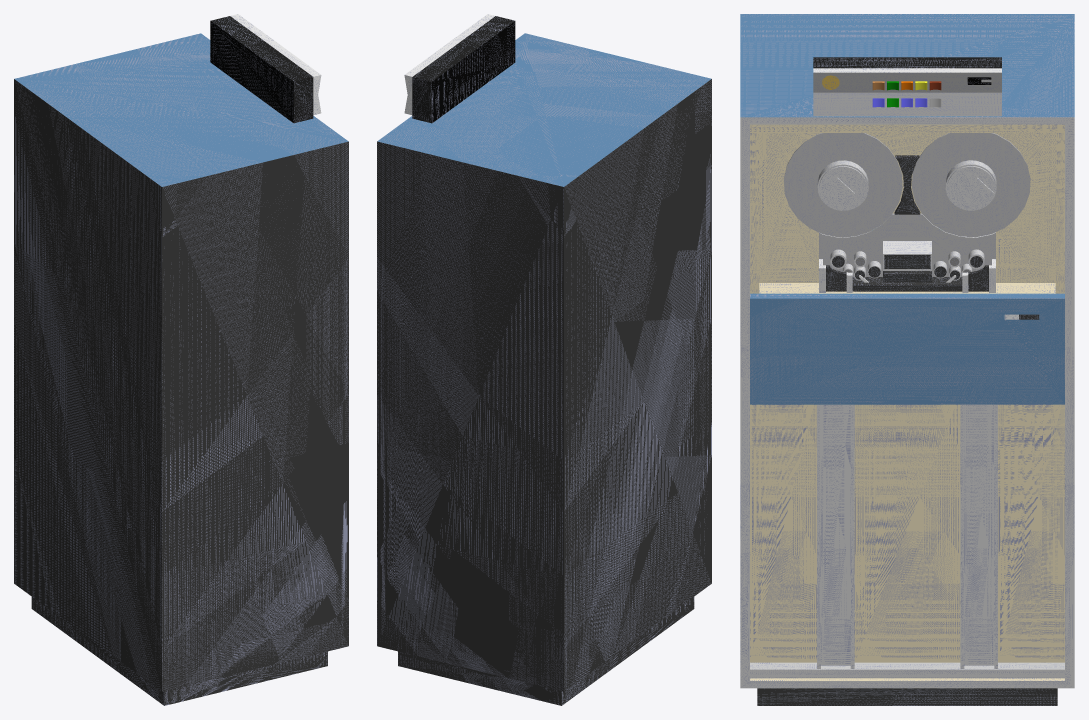
3 views of the same model, side by side, from view 1: azimuth 30°, elevation 25°; view 2: azimuth 150°, elevation 25°; view 3: azimuth 270°, elevation 25° (orthographic). The views are drawn at different scales.
Visible parts, largest first — view 1: tape_drive (×6); view 2: tape_drive (×6); view 3: tape_drive (×21).
Part boxes in pixels (x1,y1,x2,y2): tape_drive (×6): (14,14,348,705); tape_drive (×6): (377,14,711,705); tape_drive (×21): (740,14,1074,705).
Bounding box in the file's own units: 24.37 × 32.39 × 68.71.
20 materials, 1 textured.
